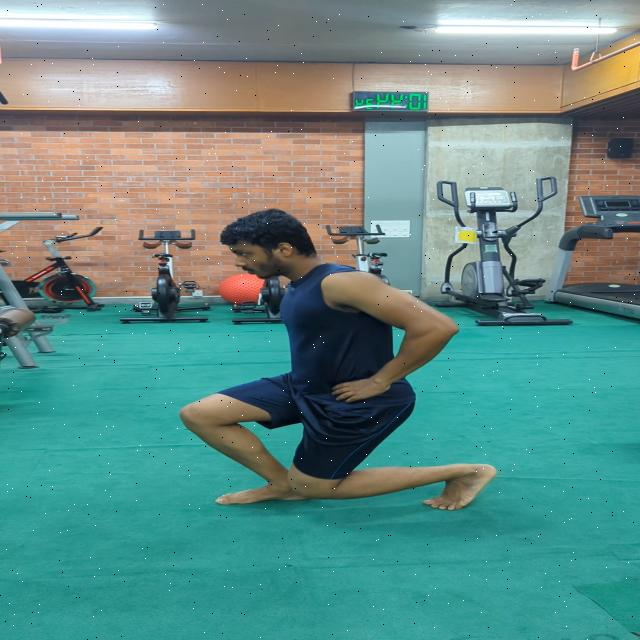Normal_Lunges: (158, 208, 506, 516)
